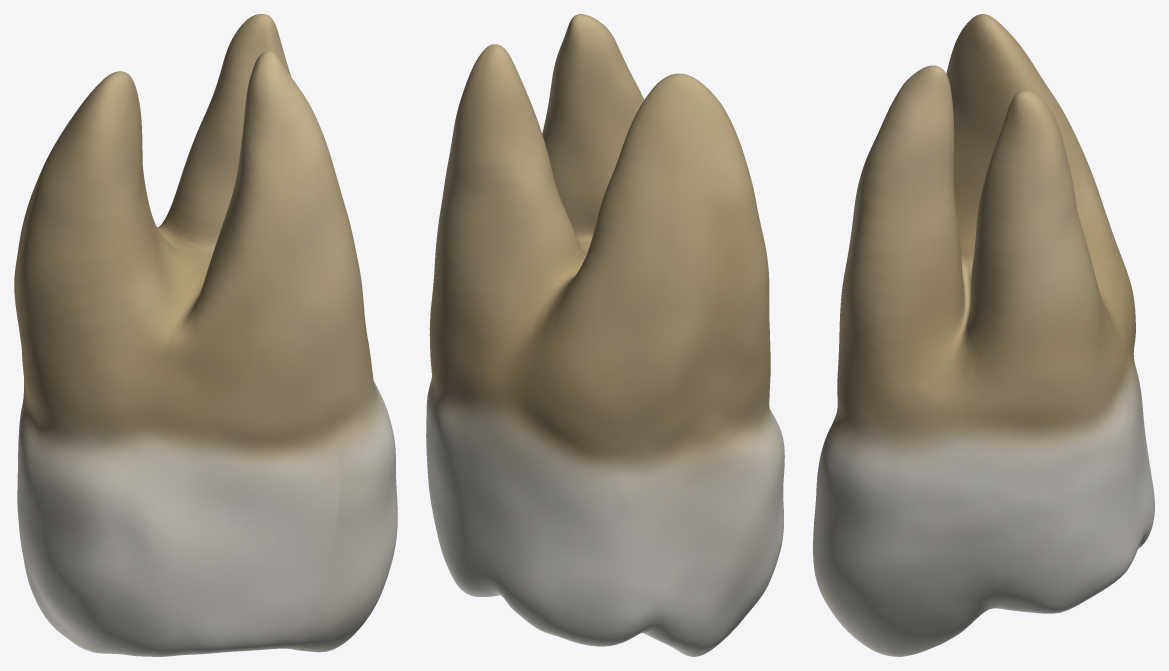
The model's file is maxillary_second_molar.glb.
3 renders of one model, left to right at view 1: azimuth 30°, elevation 25°; view 2: azimuth 150°, elevation 25°; view 3: azimuth 270°, elevation 25°, orthographic. The views are drawn at different scales.
Visible parts, largest first — view 1: Object_2; view 2: Object_2; view 3: Object_2.
Boxes of the visible parts, box(x1,y1,x2,y2) form: Object_2: box(14, 14, 397, 656); Object_2: box(426, 14, 784, 656); Object_2: box(813, 14, 1154, 656).
Bounding box in the file's own units: 0.9304 × 1.58 × 0.8568.
1 material, 1 textured.
